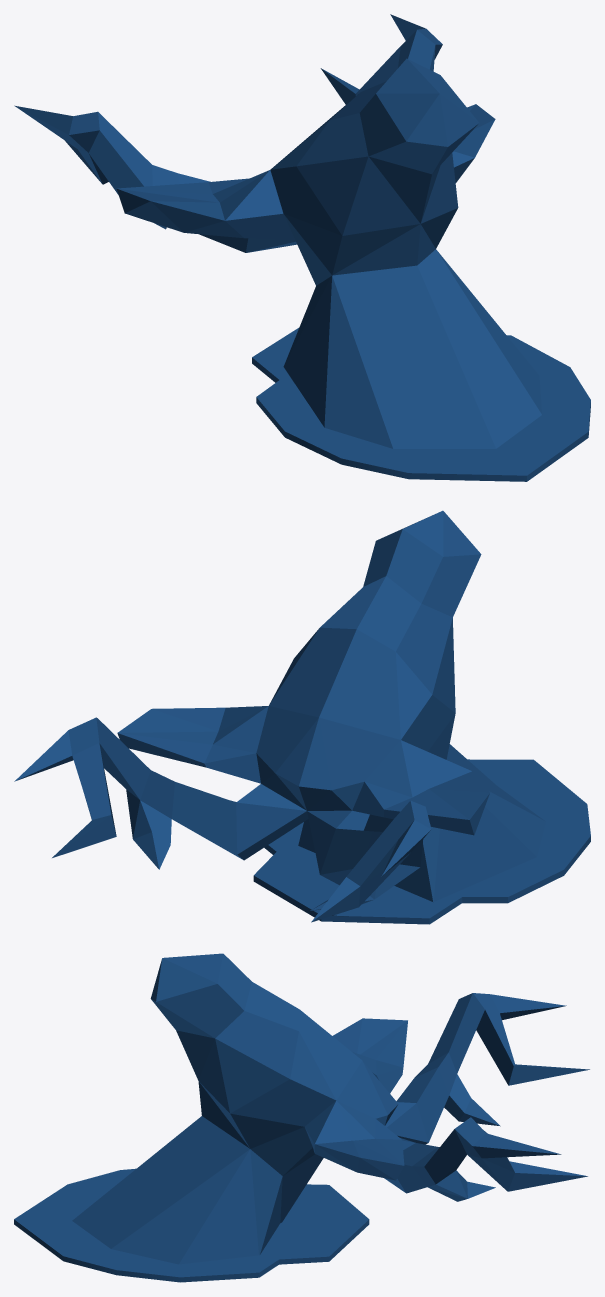
Rendered from deerhead.gltf.
3 renders of one model, top to bottom at view 1: azimuth 30°, elevation 25°; view 2: azimuth 150°, elevation 25°; view 3: azimuth 270°, elevation 25°, orthographic. The views are drawn at different scales.
Visible parts, largest first — view 1: deerhead; view 2: deerhead; view 3: deerhead.
Boxes of the visible parts, box(x1,y1,x2,y2) form: deerhead: box(14, 14, 590, 481); deerhead: box(14, 510, 590, 924); deerhead: box(14, 953, 589, 1282).
Size of the model in its own units: 0.3698 by 0.3133 by 0.5973.
Materials: 1 (1 with a texture image).
